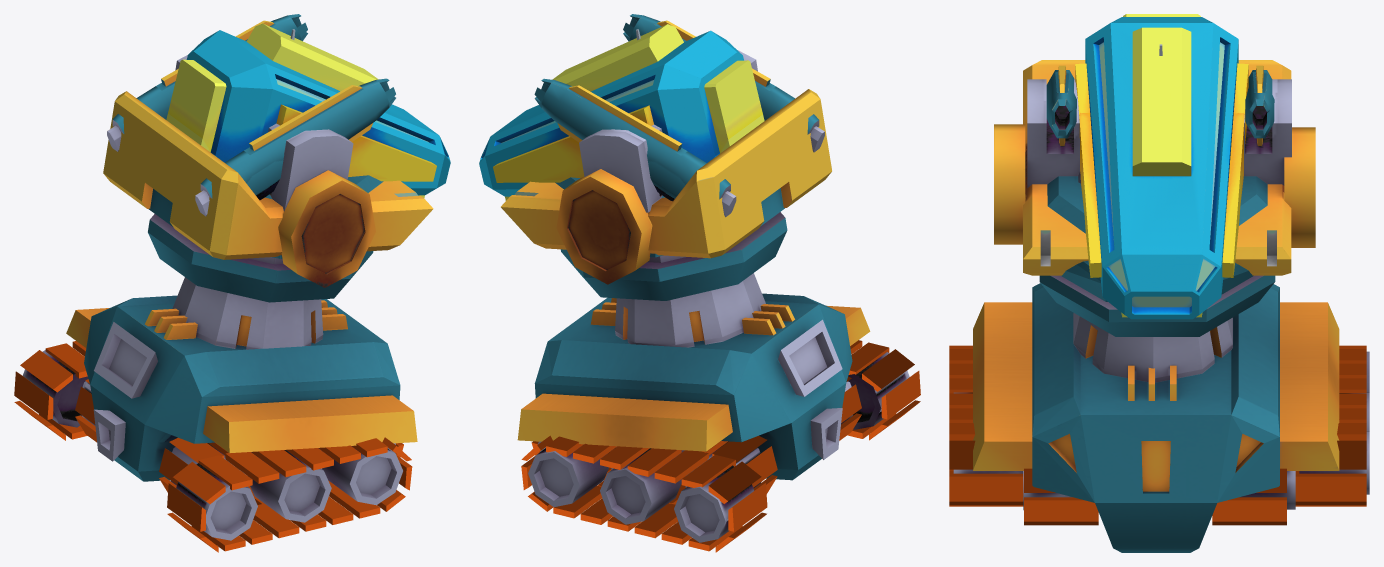
Rendered from Player_move_2_Upgrade5.obj.
3 renders of one model, left to right at view 1: azimuth 30°, elevation 25°; view 2: azimuth 150°, elevation 25°; view 3: azimuth 270°, elevation 25°, orthographic. The views are drawn at different scales.
Visible parts, largest first — view 1: Object015, Box020, Box018, Object014, Box019, Box017, Box016; view 2: Object015, Box019, Box018, Object014, Box020, Box016, Box017; view 3: Object015, Box019, Box020, Object014, Box017, Box016, Box018, Box009.
Part boxes in pixels (box(x1,y1,x2,y2)): Object015: box(66, 23, 450, 481); Box020: box(167, 437, 412, 552); Box018: box(22, 350, 402, 540); Object014: box(107, 14, 395, 216); Box019: box(14, 341, 87, 440); Box017: box(159, 437, 403, 504); Box016: box(75, 379, 96, 442); Object015: box(479, 24, 870, 480); Box019: box(521, 435, 767, 552); Box018: box(528, 352, 909, 542); Object014: box(534, 14, 824, 217); Box020: box(847, 340, 920, 440); Box016: box(531, 435, 777, 504); Box017: box(839, 376, 861, 440); Object015: box(973, 14, 1339, 552); Box019: box(1295, 345, 1366, 506); Box020: box(949, 345, 1023, 506); Object014: box(1046, 65, 1274, 145); Box017: box(1024, 468, 1098, 525); Box016: box(1212, 468, 1286, 525); Box018: box(953, 351, 1369, 494); Box009: box(1023, 471, 1295, 510).
Bounding box in the file's own units: 70.38 × 88.9 × 68.55.
6 materials, 4 textured.
